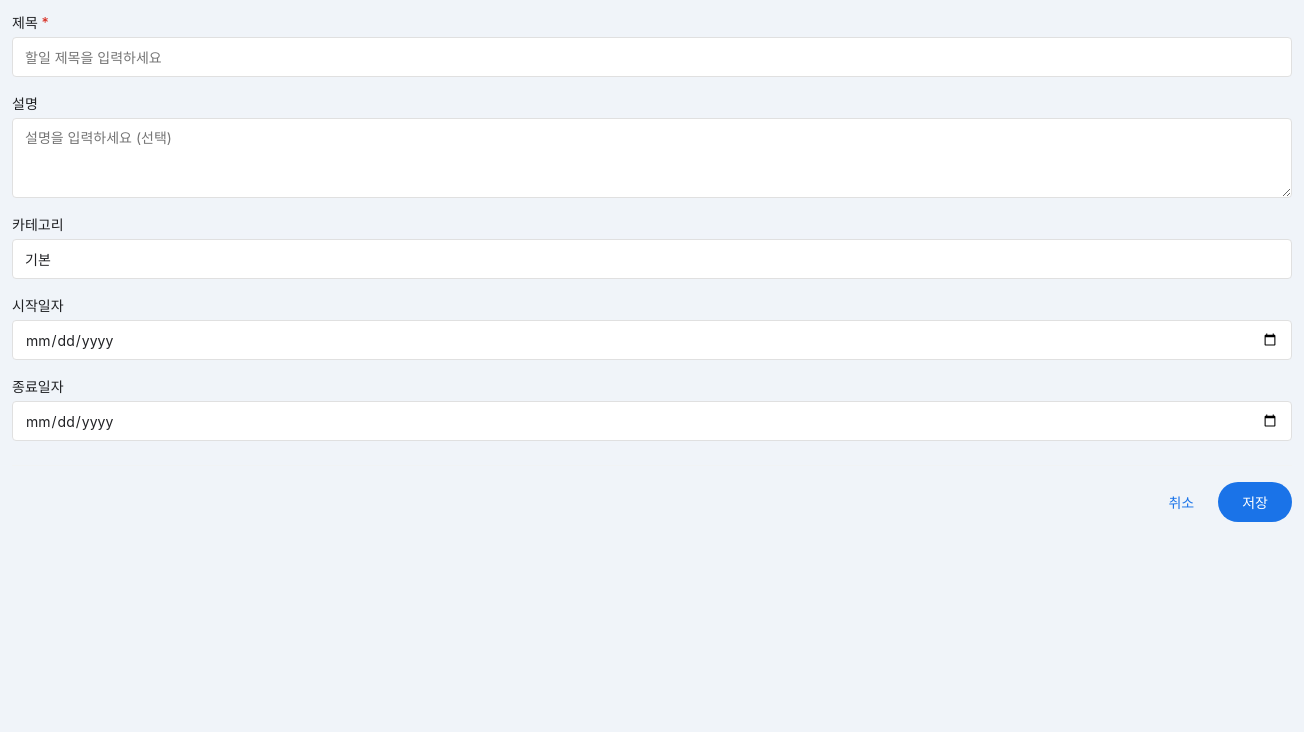
it: TodoForm - 날짜 범위 검증 › 종료일이 시작일보다 이전이면 에러가 표시된다
Step 1. Type "날짜 테스트" into the field with placeholder "할일 제목을 입력하세요" → [652, 57], box [12,37,1292,77]
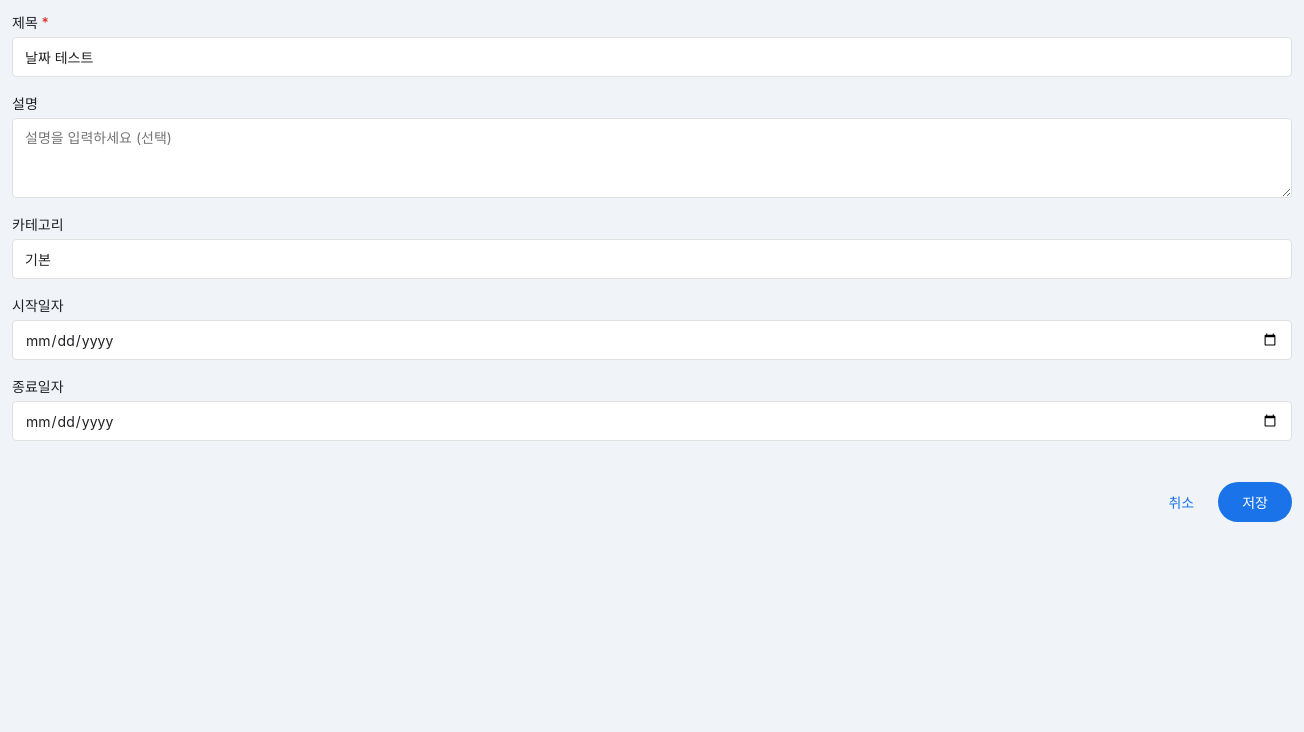
# start_date input
Step 2. Type "2026-05-10" into the date field below "시작일자" → [652, 340], box [12,320,1292,360]
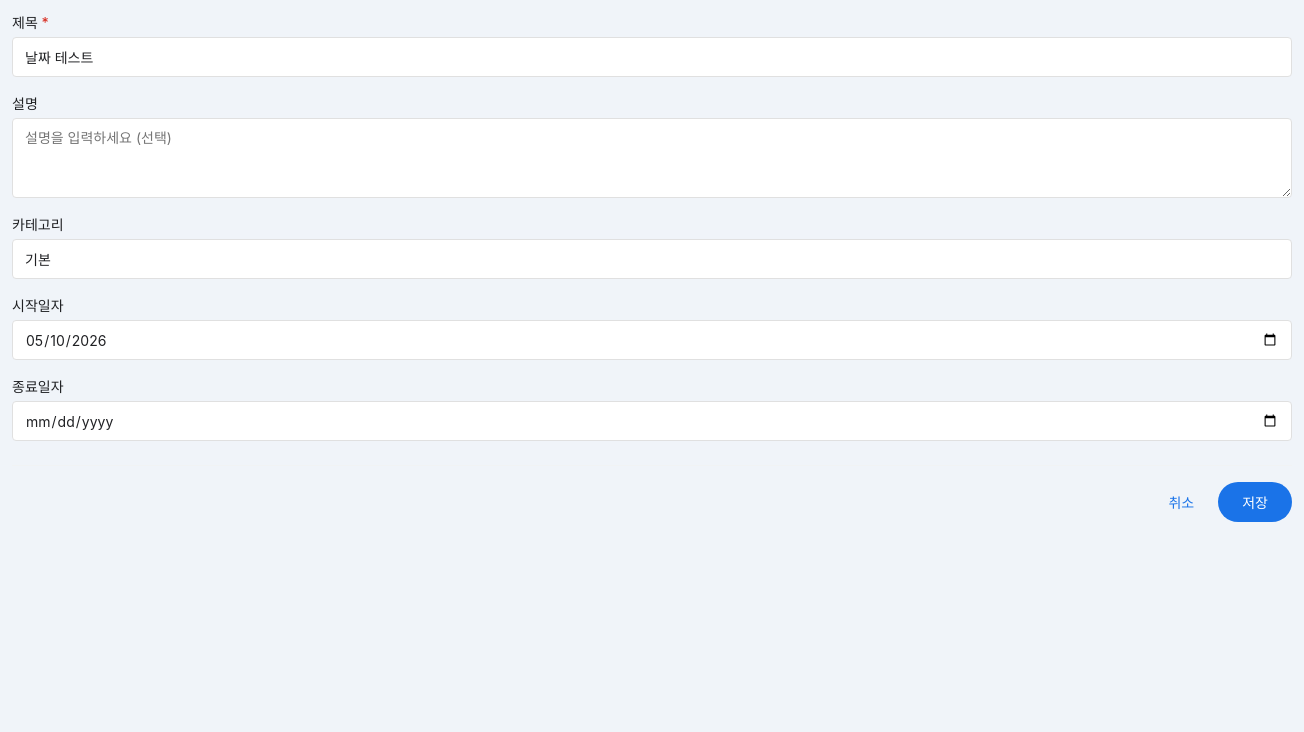
# end_date input
Step 3. Type "2026-05-01" into the date field below "종료일자" → [652, 421], box [12,401,1292,441]
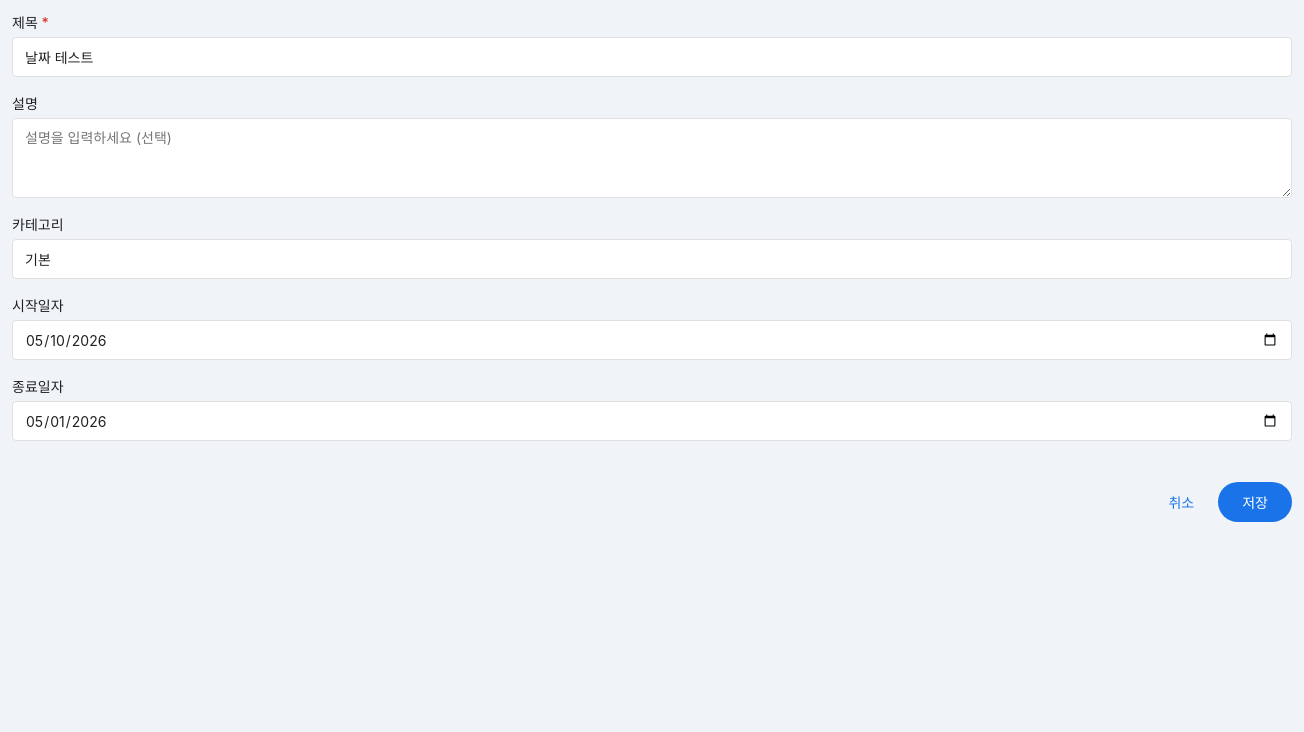
Step 4. Click the button "저장" → [1255, 502], box [1218,482,1292,522]
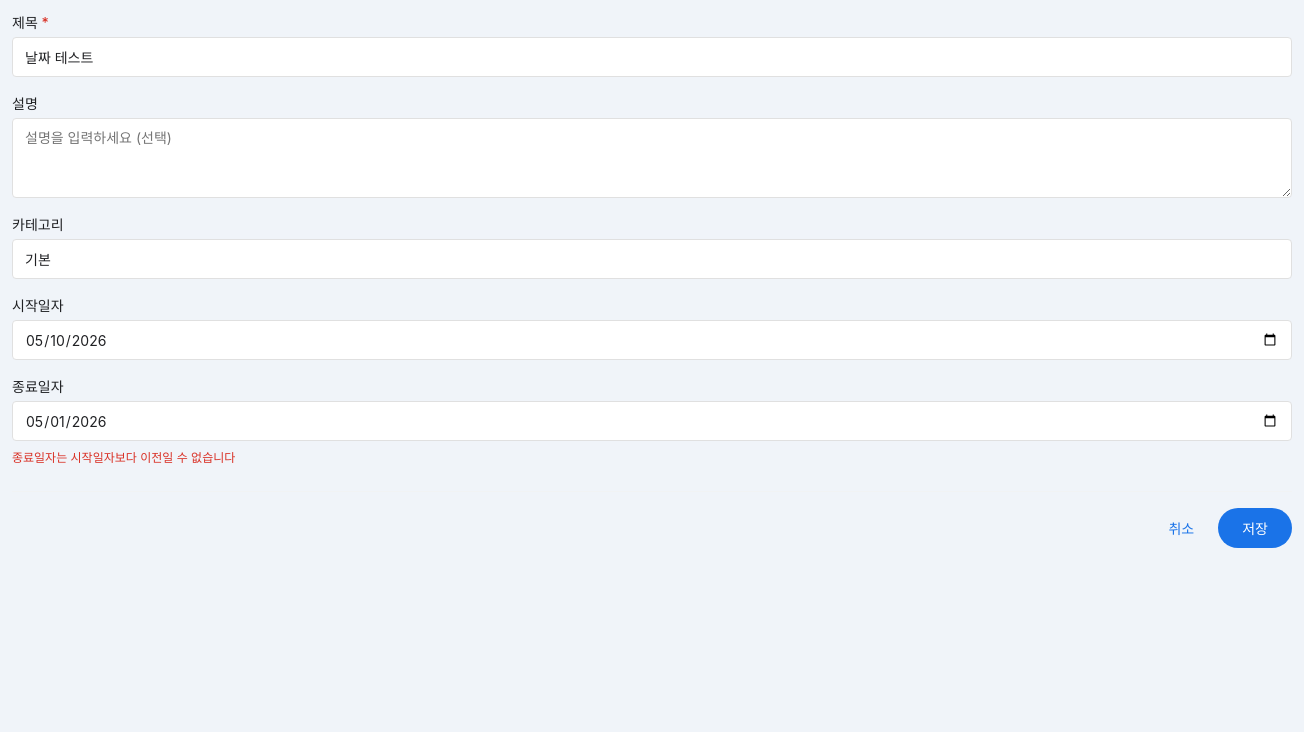
Check: the text "종료일자는 시작일자보다 이전일 수 없습니다" is shown, box [12,450,235,465]
